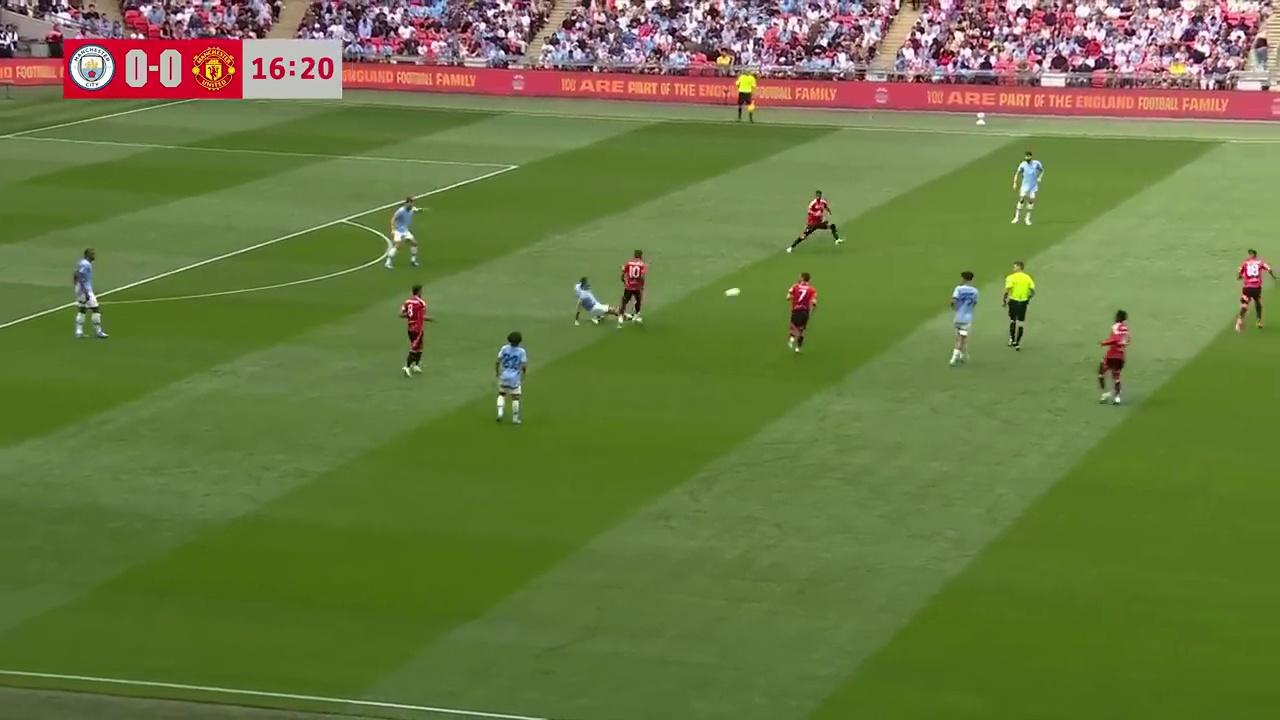ball: (723, 283, 741, 299)
player: (787, 189, 844, 251), (72, 247, 108, 339), (1234, 248, 1273, 332), (1097, 309, 1131, 405), (398, 284, 431, 377), (495, 331, 527, 425), (948, 270, 978, 365), (614, 249, 648, 327), (786, 271, 818, 353), (1010, 151, 1043, 225), (388, 195, 420, 268), (573, 276, 611, 327)
referee: (1000, 260, 1034, 351), (734, 72, 757, 124)
